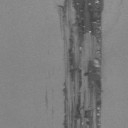slag inclusion: (56, 0, 105, 128), (44, 87, 48, 110)
